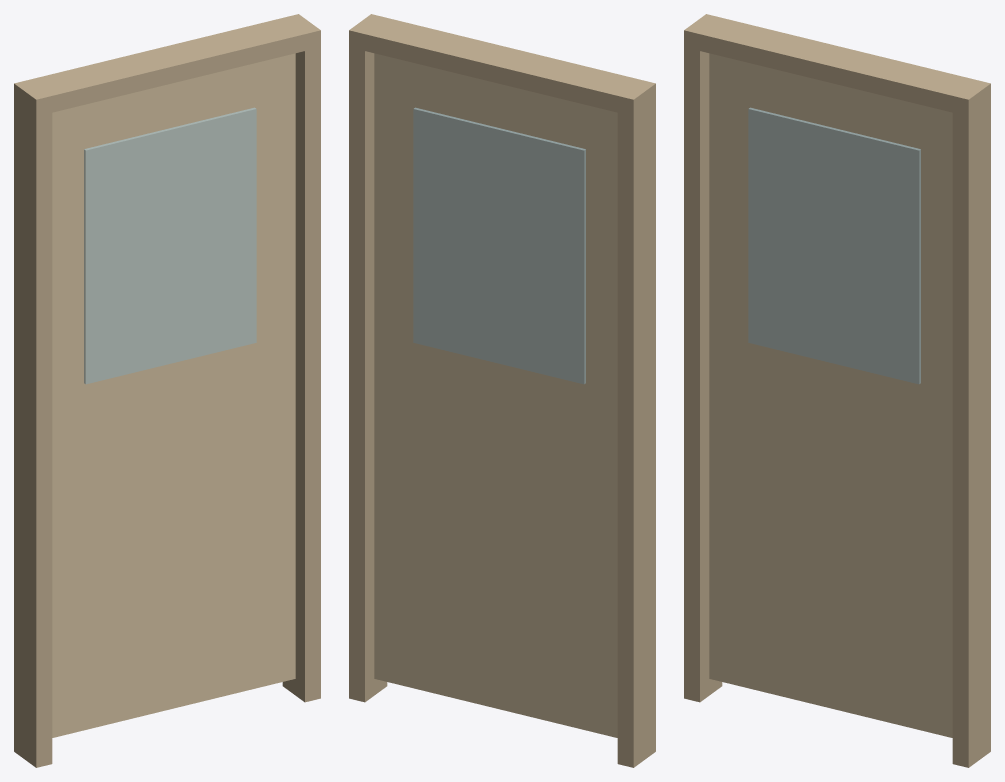
The picture shows the model from 3 angles, left to right: view 1: azimuth 30°, elevation 25°; view 2: azimuth 150°, elevation 25°; view 3: azimuth 330°, elevation 25°; orthographic projection.
Parts seen in each view (by area): view 1: leaf, frame (×3), glass; view 2: leaf, frame (×3), glass; view 3: leaf, frame (×3), glass.
Boxes of the visible parts, <box> form: leaf: <box>52,53,295,737</box>; frame (×3): <box>14,14,320,767</box>; glass: <box>84,107,256,384</box>; leaf: <box>374,53,617,737</box>; frame (×3): <box>349,14,655,767</box>; glass: <box>413,107,585,384</box>; leaf: <box>709,53,952,737</box>; frame (×3): <box>684,14,990,767</box>; glass: <box>748,107,920,384</box>.
Size of the model in its own units: 0.885 by 1.99 by 0.12.
